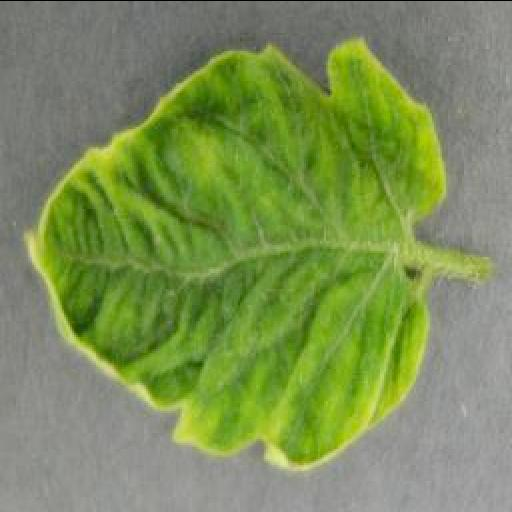disease_tomato: (28, 38, 450, 468)
